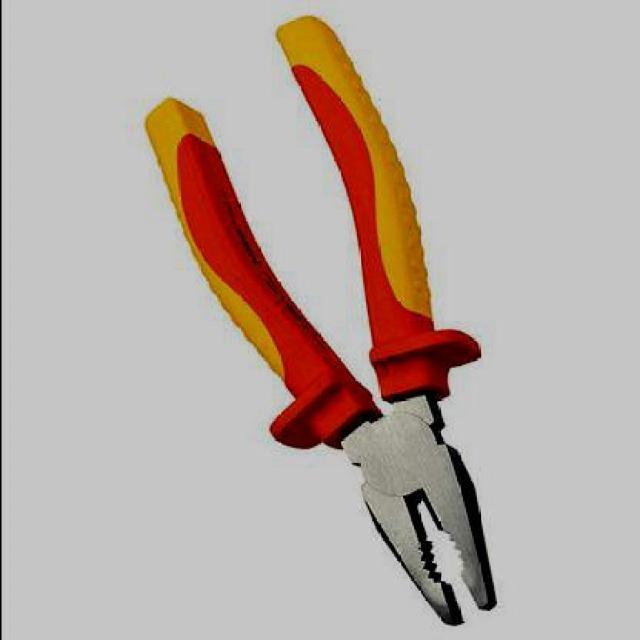pliers: (143, 15, 492, 628)
